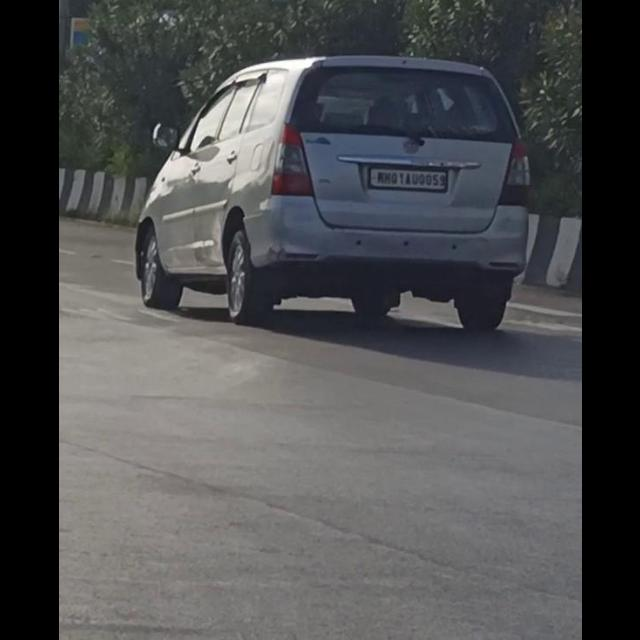number-plate: (366, 163, 449, 195)
vehicles: (119, 52, 519, 329)
